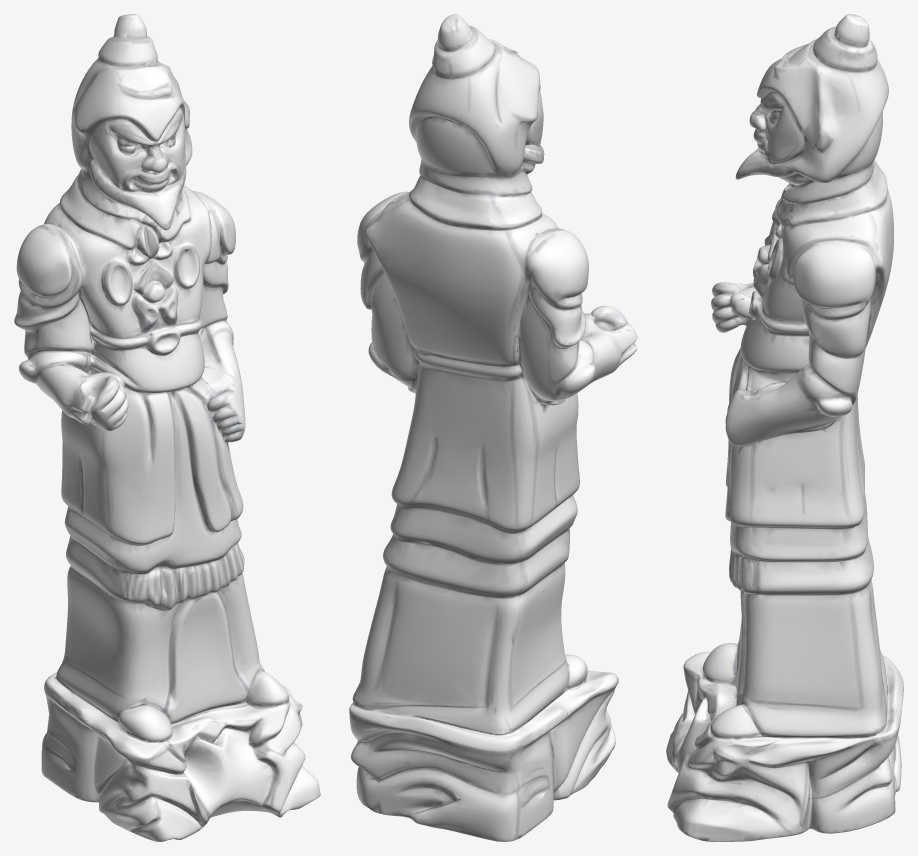
3 renders of one model, left to right at view 1: azimuth 30°, elevation 25°; view 2: azimuth 150°, elevation 25°; view 3: azimuth 270°, elevation 25°, orthographic. The views are drawn at different scales.
Visible parts, largest first — view 1: node_0; view 2: node_0; view 3: node_0.
Part boxes in pixels (x1,y1,x2,y2): node_0: [14, 14, 320, 841]; node_0: [349, 14, 637, 841]; node_0: [666, 14, 903, 841].
Size of the model in its own units: 0.3629 by 1.13 by 0.3159.
1 material, 1 textured.
